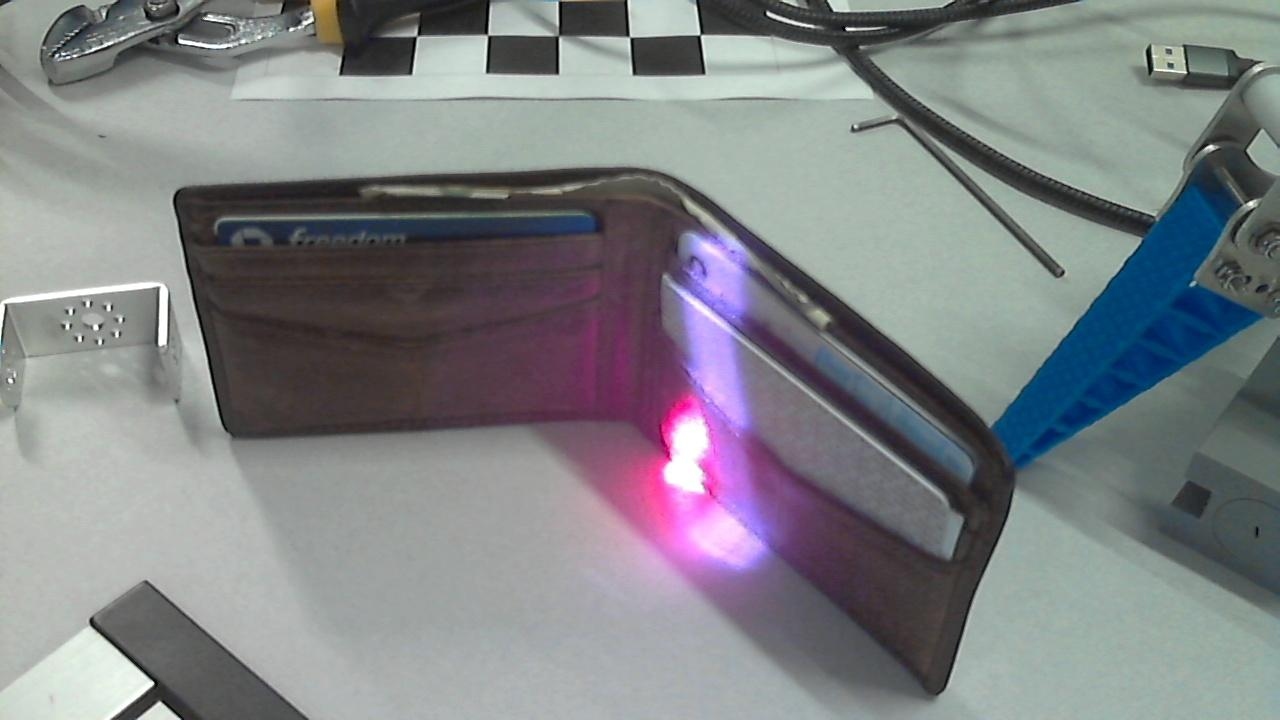Object bifold wallet - Material leather - Pdfname qb3CMu4EyzEc: (573, 302, 757, 533)
